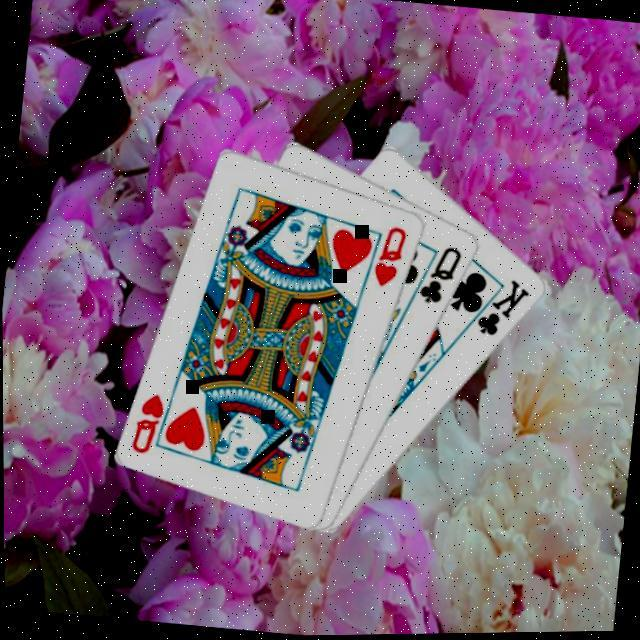KC: (463, 271, 535, 343)
QC: (417, 241, 467, 310)
QH: (129, 382, 181, 458), (371, 220, 412, 291)
